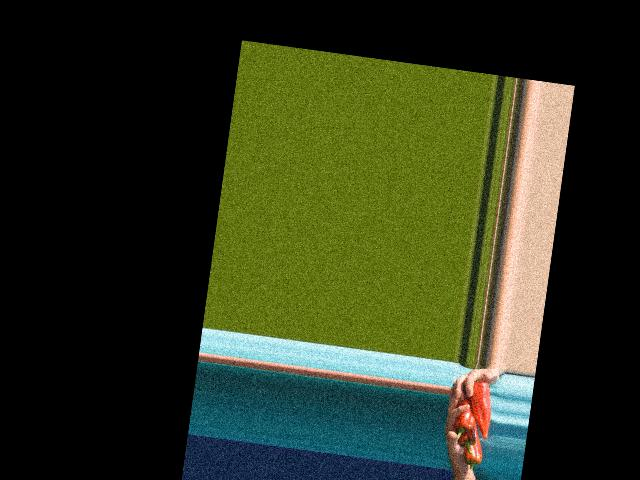bell_pepper: (460, 431, 485, 470)
